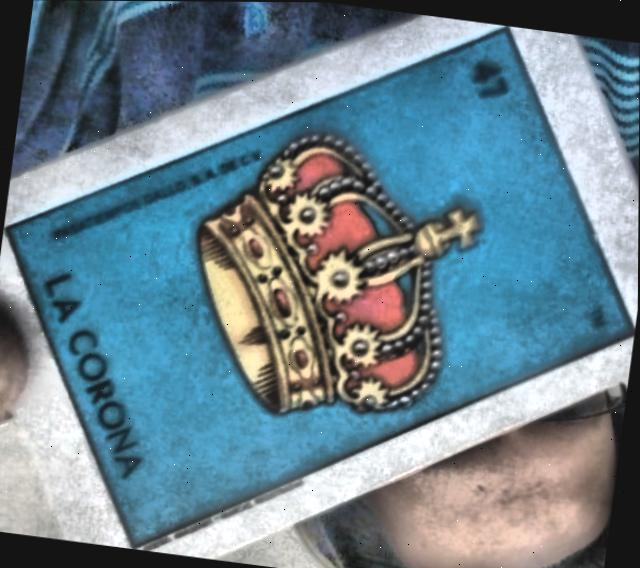La Corona: (5, 24, 633, 546)
